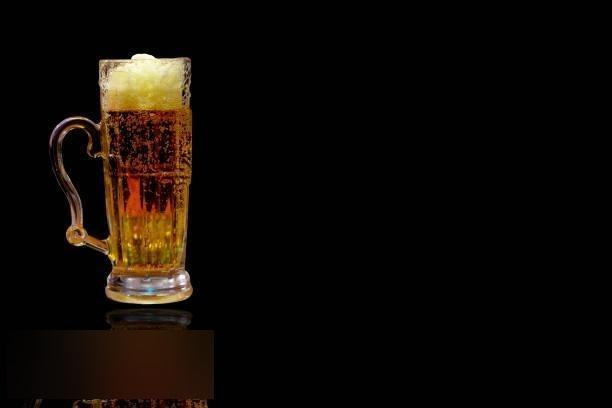glass-mug: (47, 53, 196, 307)
